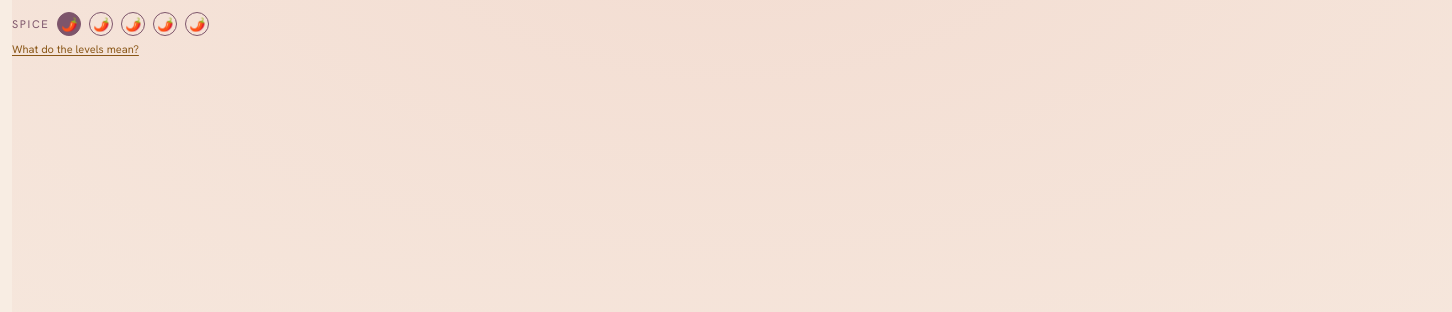
Scenario: LevelPicker — preview without committing › blur closes the card and leaves no text behind
Focus the button named "Spice 4 —": (165, 24) top-left (153, 12), bottom-right (177, 36)
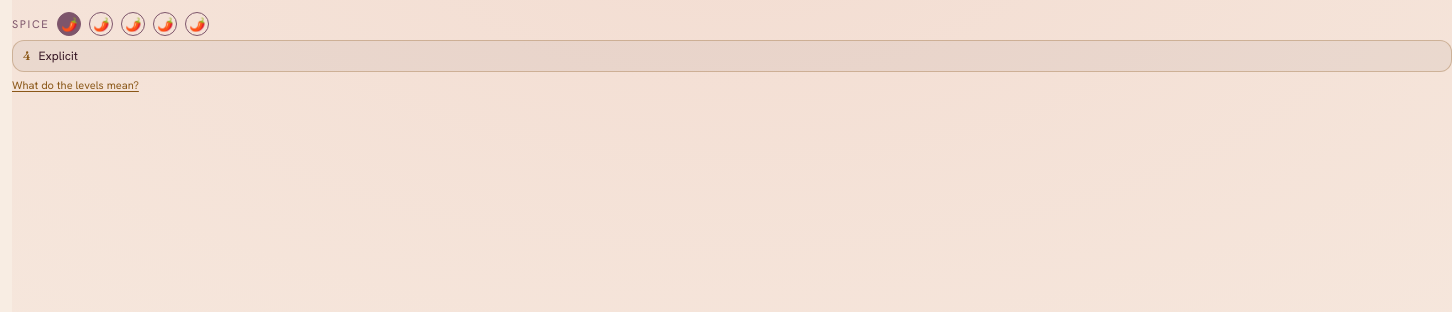
Result: the message shows "Explicit" at top-left (39, 48), bottom-right (78, 64)
Leave the button named "Spice 4 —", box top-left (153, 12), bottom-right (177, 36)
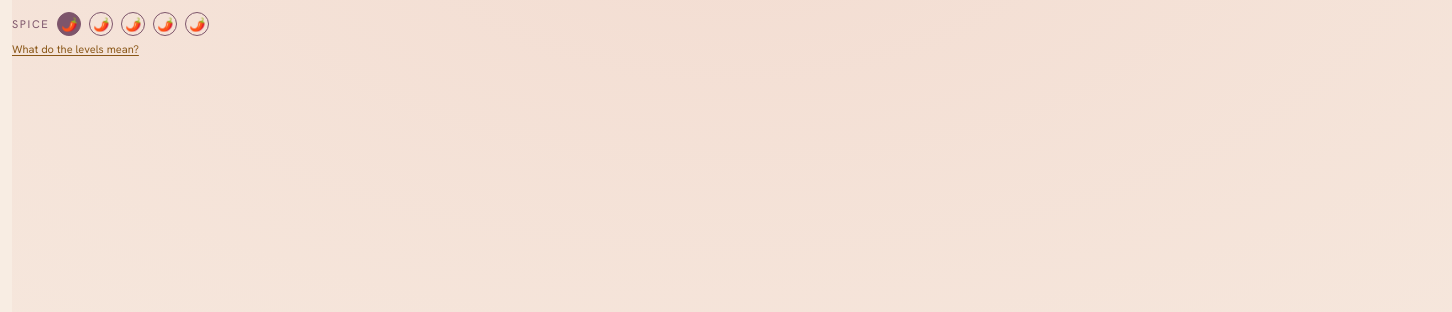
Result: the message "4 Explicit" is gone
